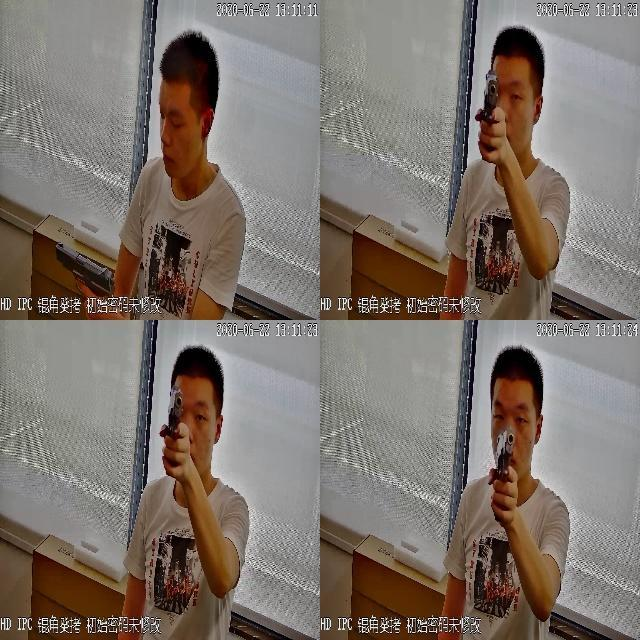gun-knife-thesis - v11 Yolov5 augmented: (52, 237, 115, 319), (484, 426, 520, 524), (476, 65, 503, 166), (161, 382, 186, 481)
